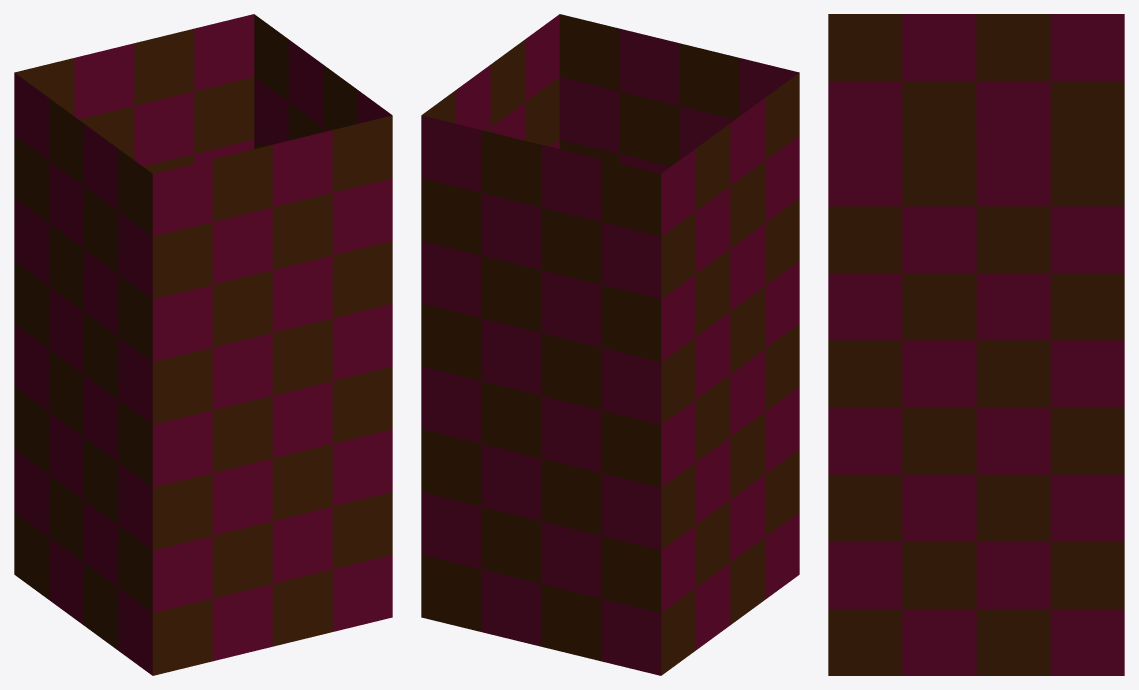
The model's file is background.obj.
3 renders of one model, left to right at view 1: azimuth 30°, elevation 25°; view 2: azimuth 150°, elevation 25°; view 3: azimuth 270°, elevation 25°, orthographic. The views are drawn at different scales.
Parts seen in each view (by area): view 1: background; view 2: background; view 3: background.
Part boxes in pixels (left/top/right/bottom): background: left=14, top=14, right=392, bottom=675; background: left=421, top=14, right=799, bottom=675; background: left=828, top=14, right=1124, bottom=675.
Size of the model in its own units: 190 by 379 by 190.
Materials: 1 (1 with a texture image).
